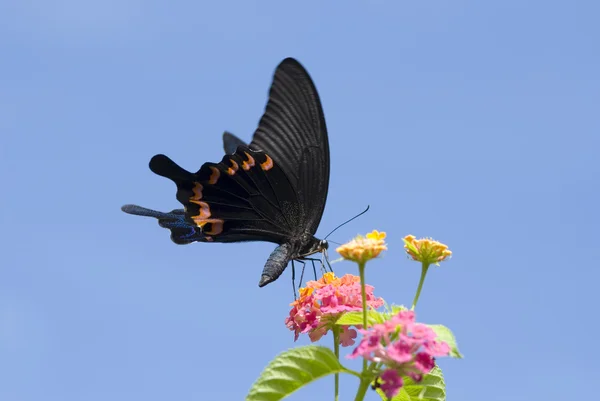Butterfly: (119, 56, 372, 299)
